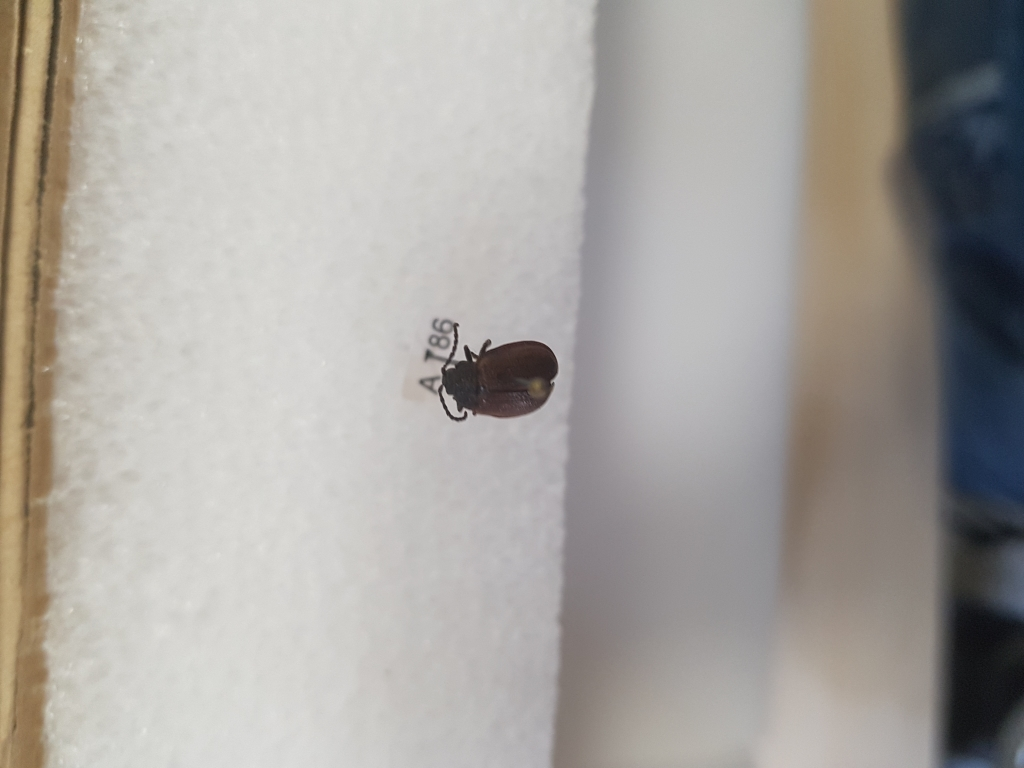Galeruca_tanaceti: (437, 315, 561, 427)
